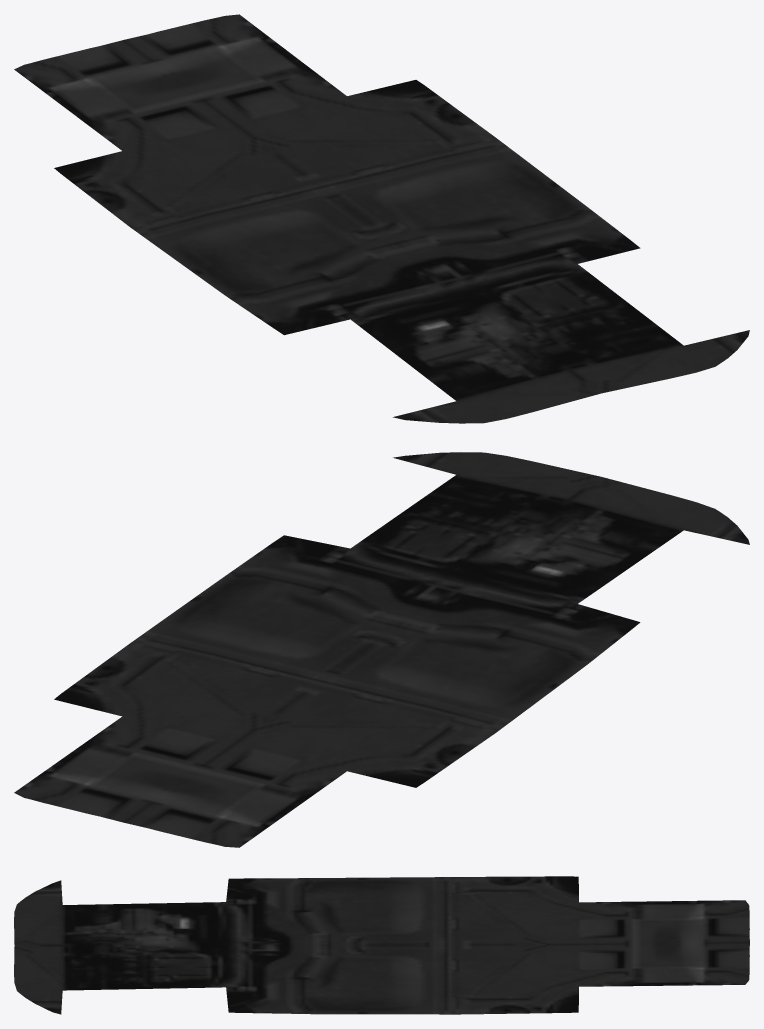
The model's file is 4Alt.fbx.
The picture shows the model from 3 angles, top to bottom: view 1: azimuth 30°, elevation 25°; view 2: azimuth 150°, elevation 25°; view 3: azimuth 270°, elevation 25°; orthographic projection. The views are drawn at different scales.
Parts seen in each view (by area): view 1: Object001; view 2: Object001; view 3: Object001.
Part boxes in pixels (bbox=[...]): Object001: bbox=[14, 14, 749, 423]; Object001: bbox=[14, 452, 749, 847]; Object001: bbox=[14, 876, 749, 1014].
Bounding box in the file's own units: 1678 × 30.07 × 3794.
